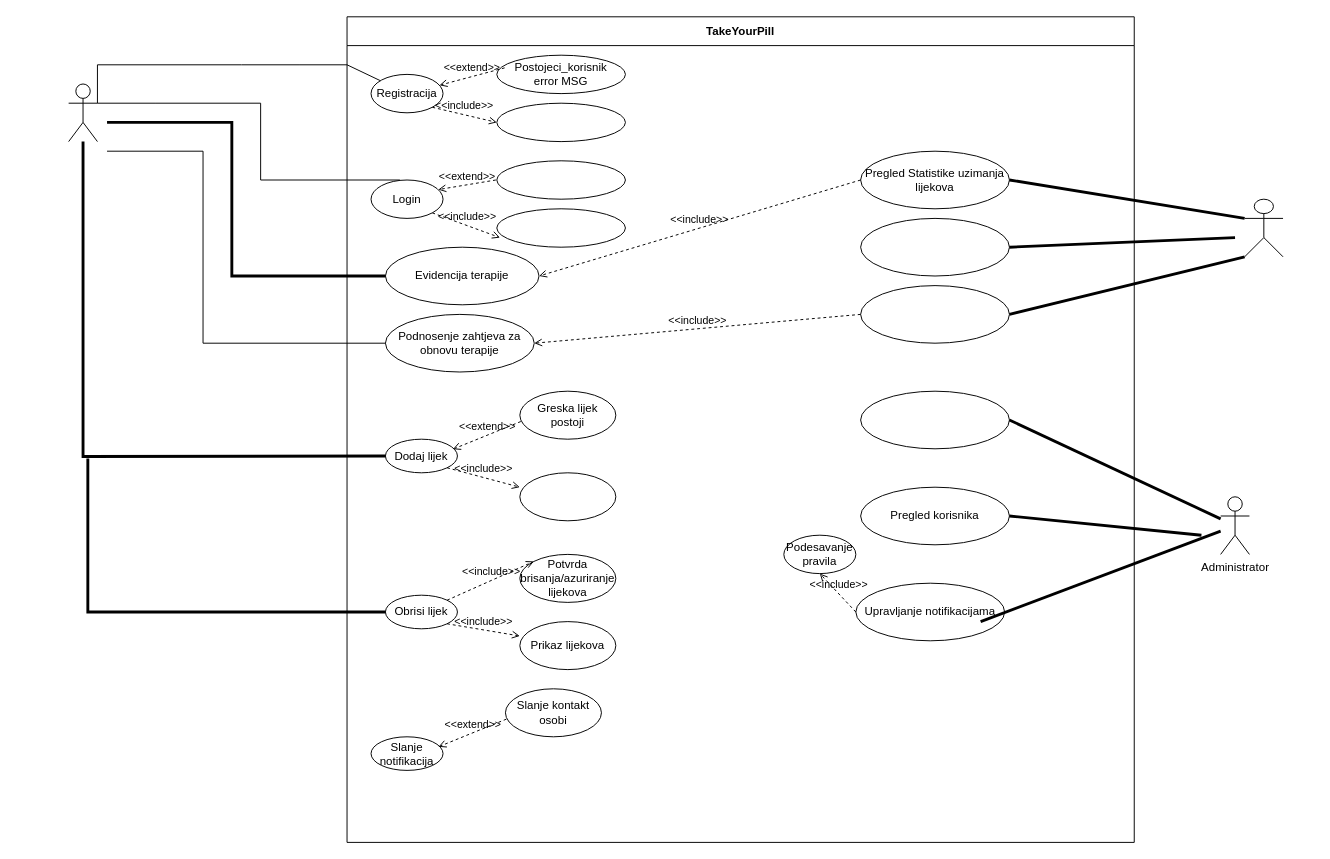
Some shapes in this 1330 by 859 pixel diagram are drawn without their labels. Each missing label, with the centre of its shape:
Analiza Nuspojava: (934,246)
Generisanje raspored terapije: (567,496)
Medicinski operater: (1263,227)
Netacni podaci: (560,179)
Osoba koja koristi terapiju: (82,112)
Pregled Aktivnosti sistema: (934,419)
Pregled Zahtjeva: (934,314)
Unos_podataka: (560,122)
Verifikacija_podataka: (560,227)
